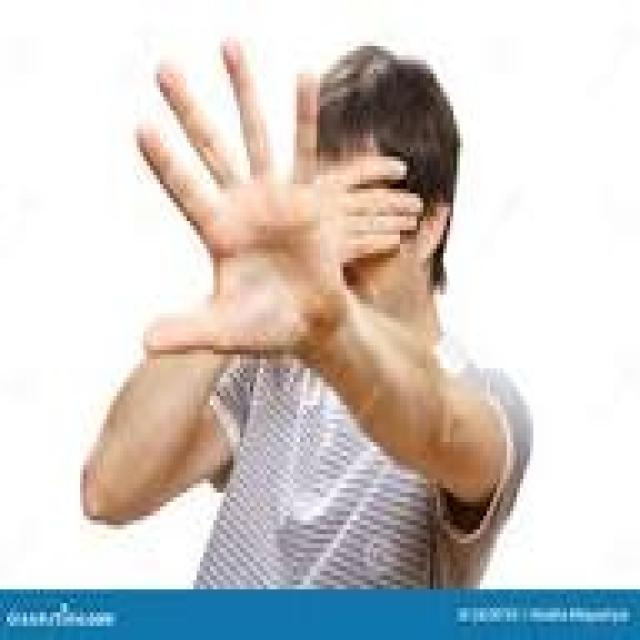7_mano_rostro: (245, 121, 420, 389)
